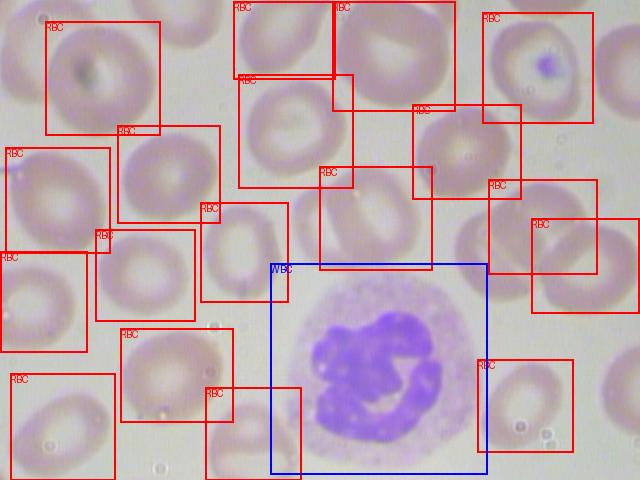RBC: (332, 1, 455, 111), (238, 74, 353, 188), (45, 21, 160, 135), (482, 12, 593, 123), (319, 166, 432, 270), (10, 373, 115, 480), (5, 147, 110, 253), (120, 328, 233, 422), (412, 104, 521, 199), (488, 179, 597, 274), (531, 218, 639, 313), (117, 125, 220, 223), (95, 229, 195, 321), (477, 359, 573, 452), (205, 387, 301, 480), (200, 202, 288, 302), (0, 251, 87, 352), (233, 1, 335, 79)
WBC: (270, 263, 487, 474)
